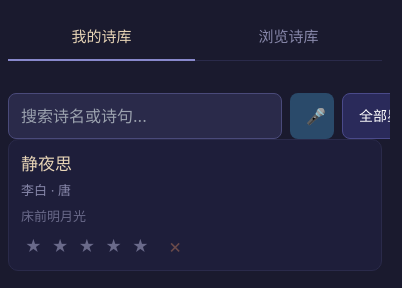
Scenario: LibraryTab › browse shows checkmark for saved poems with no rating
Click the tab "浏览诗库": (288, 38) [195,16,382,60]
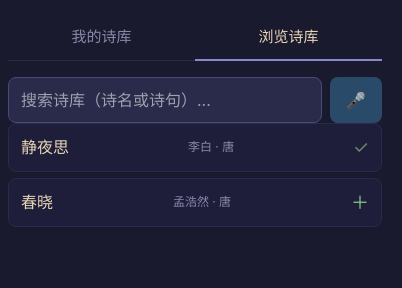
Check: the text "✓" is shown, box [353,134,369,160]
